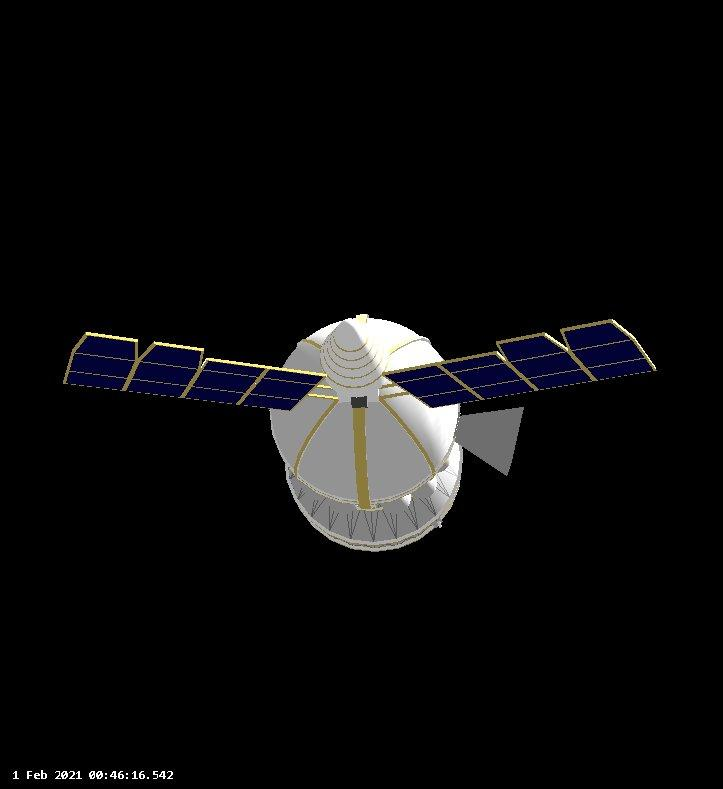solar: (385, 317, 655, 411), (63, 330, 327, 414)
thruster: (268, 316, 468, 552), (452, 403, 527, 476)
